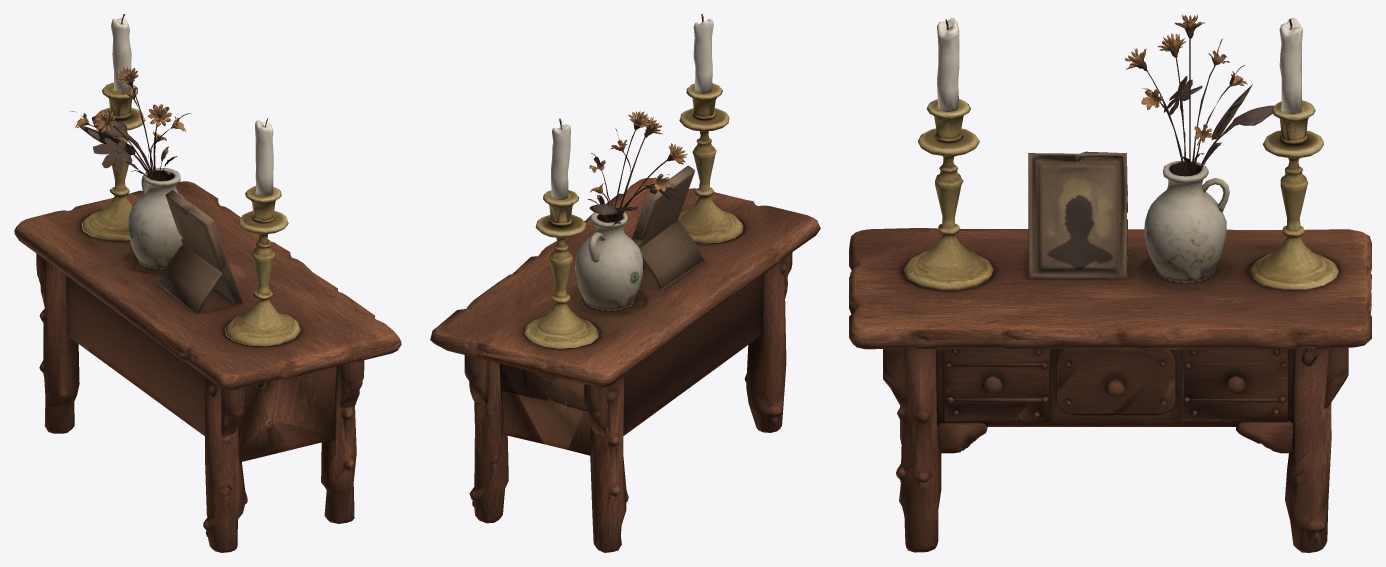
The model's file is prop-candle-altar-v01.glb.
The picture shows the model from 3 angles, left to right: view 1: azimuth 30°, elevation 25°; view 2: azimuth 150°, elevation 25°; view 3: azimuth 270°, elevation 25°; orthographic projection. The views are drawn at different scales.
Visible parts, largest first — view 1: tripo_node_ea108200-14c9-4f6f-801b-d479a234a13e; view 2: tripo_node_ea108200-14c9-4f6f-801b-d479a234a13e; view 3: tripo_node_ea108200-14c9-4f6f-801b-d479a234a13e.
Boxes of the visible parts, bbox=[...] form: tripo_node_ea108200-14c9-4f6f-801b-d479a234a13e: bbox=[14, 14, 401, 552]; tripo_node_ea108200-14c9-4f6f-801b-d479a234a13e: bbox=[430, 14, 820, 552]; tripo_node_ea108200-14c9-4f6f-801b-d479a234a13e: bbox=[849, 14, 1371, 552].
Size of the model in its own units: 0.69 by 1.46 by 1.41.
Materials: 1 (1 with a texture image).
